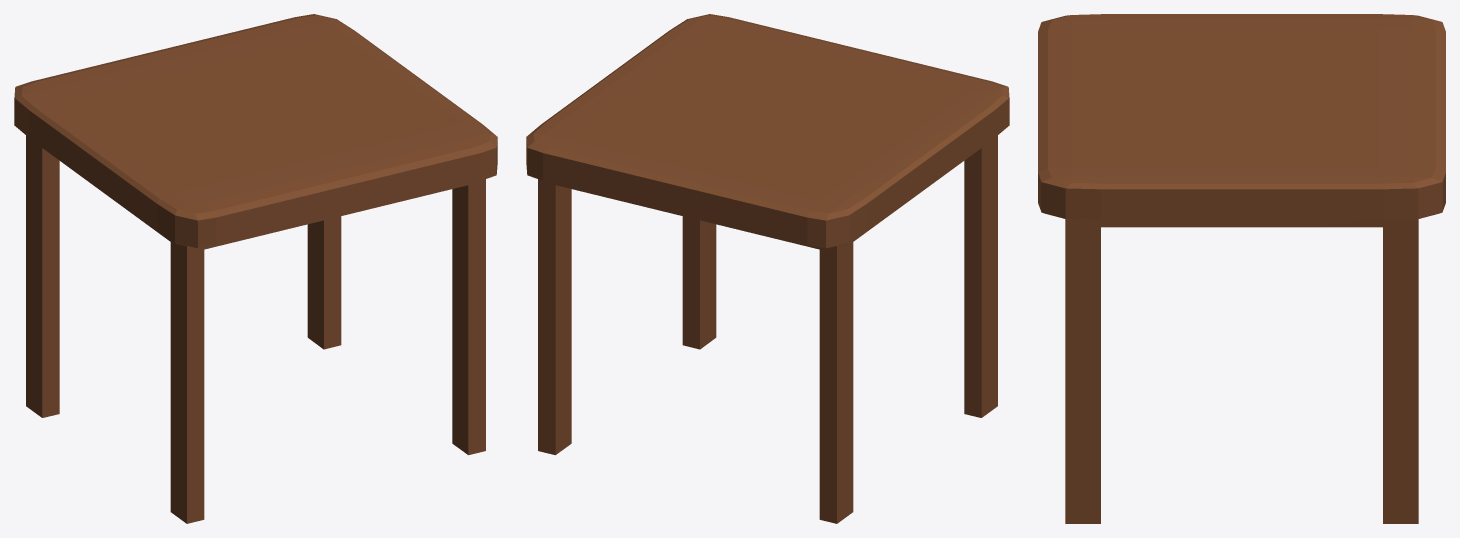
Rendered from Table_Wood_01.glb.
3 views of the same model, side by side, from view 1: azimuth 30°, elevation 25°; view 2: azimuth 150°, elevation 25°; view 3: azimuth 270°, elevation 25° (orthographic). The views are drawn at different scales.
Visible parts, largest first — view 1: Mesh_Table_Wood_01; view 2: Mesh_Table_Wood_01; view 3: Mesh_Table_Wood_01.
Boxes of the visible parts, x1,y1,x2,y2 form: Mesh_Table_Wood_01: (14,14,497,523); Mesh_Table_Wood_01: (526,14,1009,523); Mesh_Table_Wood_01: (1038,14,1445,523).
Bounding box in the file's own units: 0.8177 × 0.7562 × 0.8076.
1 material, 1 textured.
